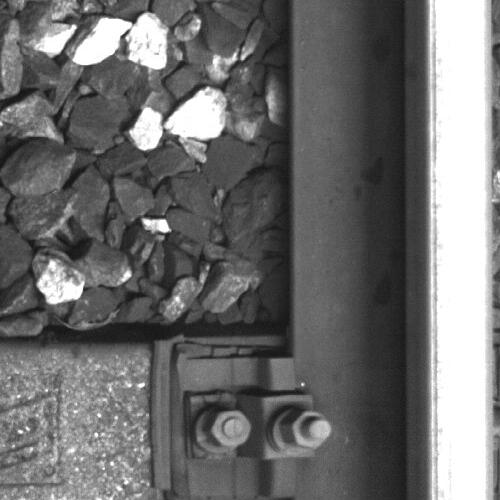kb: (175, 358, 332, 493)
nut: (282, 409, 331, 450), (206, 407, 251, 448)
rail: (426, 2, 493, 500)
tie_concr: (1, 342, 285, 500)
